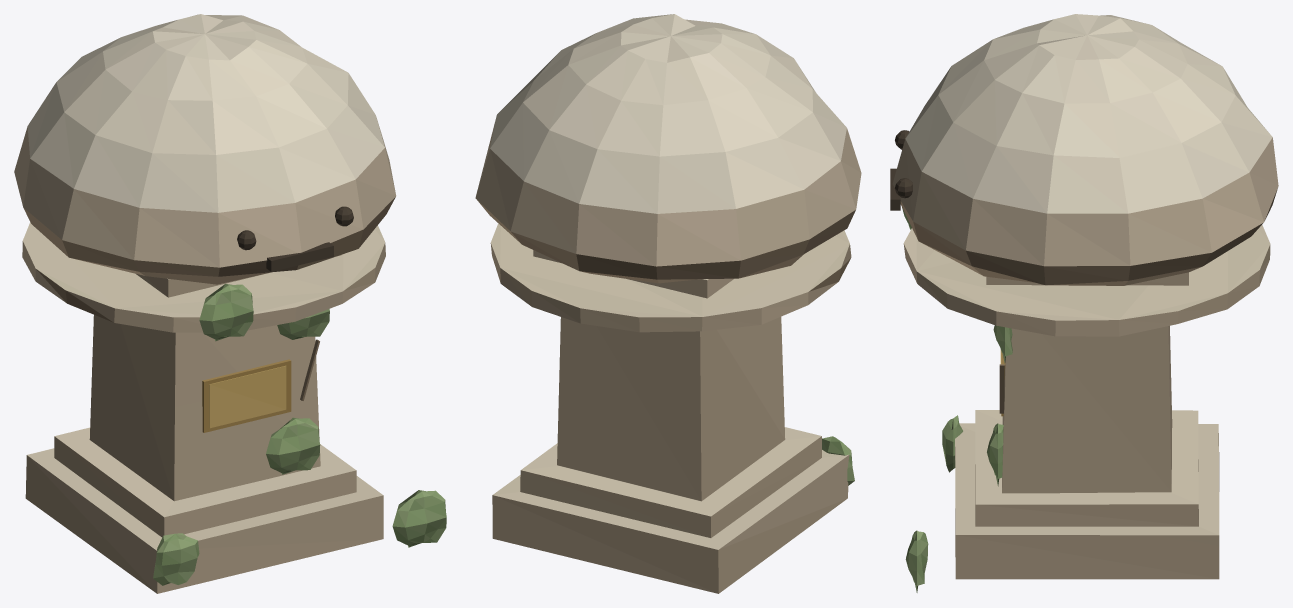
Rendered from Slime_Statue.glb.
The picture shows the model from 3 angles, left to right: view 1: azimuth 30°, elevation 25°; view 2: azimuth 150°, elevation 25°; view 3: azimuth 270°, elevation 25°; orthographic projection.
Parts seen in each view (by area): view 1: Statue_Slime, Statue_PedestalMain, Statue_PedestalBase, Statue_Cornice, Statue_PedestalMid, Statue_Plaque, Statue_Moss_2, Statue_Moss_1, Statue_Moss_3, Statue_Moss_0, Statue_PlaqueFrame, Statue_Mouth (+2 smaller); view 2: Statue_Slime, Statue_PedestalMain, Statue_PedestalBase, Statue_Cornice, Statue_PedestalMid, Statue_PedestalCap, Statue_Moss_0; view 3: Statue_Slime, Statue_PedestalMain, Statue_PedestalBase, Statue_Cornice, Statue_PedestalMid, Statue_Moss_1, Statue_PedestalCap, Statue_Moss_3, Statue_Moss_0.
Part boxes in pixels (x1=…): Statue_Slime: x1=14, y1=14, x2=396, y2=284; Statue_PedestalMain: x1=89, y1=315, x2=320, y2=501; Statue_PedestalBase: x1=25, y1=448, x2=383, y2=593; Statue_Cornice: x1=22, y1=222, x2=385, y2=332; Statue_PedestalMid: x1=54, y1=427, x2=356, y2=537; Statue_Plaque: x1=209, y1=365, x2=286, y2=428; Statue_Moss_2: x1=199, y1=283, x2=253, y2=341; Statue_Moss_1: x1=392, y1=490, x2=446, y2=547; Statue_Moss_3: x1=266, y1=417, x2=320, y2=474; Statue_Moss_0: x1=153, y1=533, x2=199, y2=585; Statue_PlaqueFrame: x1=202, y1=359, x2=291, y2=432; Statue_Mouth: x1=266, y1=242, x2=333, y2=271; Statue_Slime: x1=475, y1=14, x2=861, y2=283; Statue_PedestalMain: x1=557, y1=317, x2=785, y2=501; Statue_PedestalBase: x1=492, y1=450, x2=849, y2=593; Statue_Cornice: x1=490, y1=223, x2=851, y2=332; Statue_PedestalMid: x1=520, y1=427, x2=821, y2=537; Statue_PedestalCap: x1=533, y1=250, x2=733, y2=298; Statue_Moss_0: x1=822, y1=436, x2=854, y2=485; Statue_Slime: x1=892, y1=14, x2=1278, y2=285; Statue_PedestalMain: x1=1002, y1=326, x2=1172, y2=493; Statue_PedestalBase: x1=955, y1=423, x2=1219, y2=579; Statue_Cornice: x1=903, y1=225, x2=1270, y2=336; Statue_PedestalMid: x1=975, y1=410, x2=1198, y2=526; Statue_Moss_1: x1=905, y1=530, x2=928, y2=592; Statue_PedestalCap: x1=986, y1=272, x2=1188, y2=285; Statue_Moss_3: x1=987, y1=423, x2=1003, y2=486; Statue_Moss_0: x1=942, y1=415, x2=962, y2=472.
Bounding box in the file's own units: 0.9397 × 1.33 × 0.9577.
